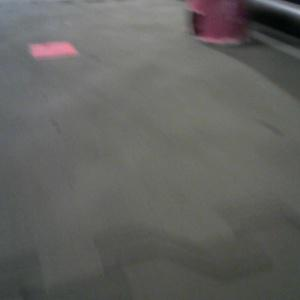Right: (185, 1, 246, 45)
